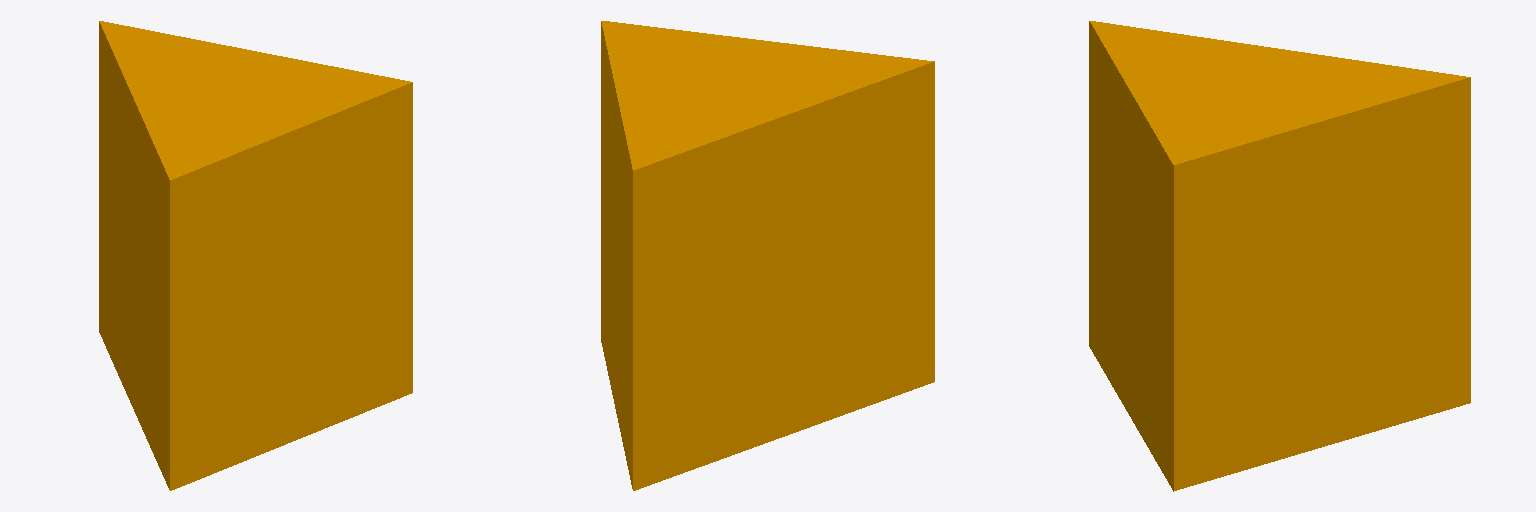
URDF robot description (object):
<?xml version="1.0"?>
<robot name="object">
  <link name="object">
    <visual>
      <origin xyz="0 0 0"/>
      <geometry>
        <mesh filename="meshes/generated/col_064.obj" scale="0.03 0.03 0.03"/>
      </geometry>
    </visual>
    <collision>
      <origin xyz="0 0 0"/>
      <geometry>
        <mesh filename="meshes/generated/col_064.obj" scale="0.03 0.03 0.03"/>
      </geometry>
    </collision>
    <inertial>
      <density value="1000.0"/>
    </inertial>
  </link>
</robot>

--- Facts derived from the render (not from the file) ---
Views: 3 orthographic renders of the robot side by side, from view 1: azimuth 30°, elevation 25°; view 2: azimuth 150°, elevation 25°; view 3: azimuth 270°, elevation 25°.
Model object with 1 links and 0 joints (none), rooted at object, posed every joint at zero.
Links seen in each view (by area): view 1: object; view 2: object; view 3: object.
Link boxes in pixels (<box>): object: <box>99,21,412,490</box>; object: <box>601,21,934,490</box>; object: <box>1089,21,1470,491</box>.
Bounding box of the posed robot: 0.0572 × 0.0636 × 0.06 m (x, y, z).
1 mesh visuals loaded from 1 distinct referenced files (1 OBJ).
